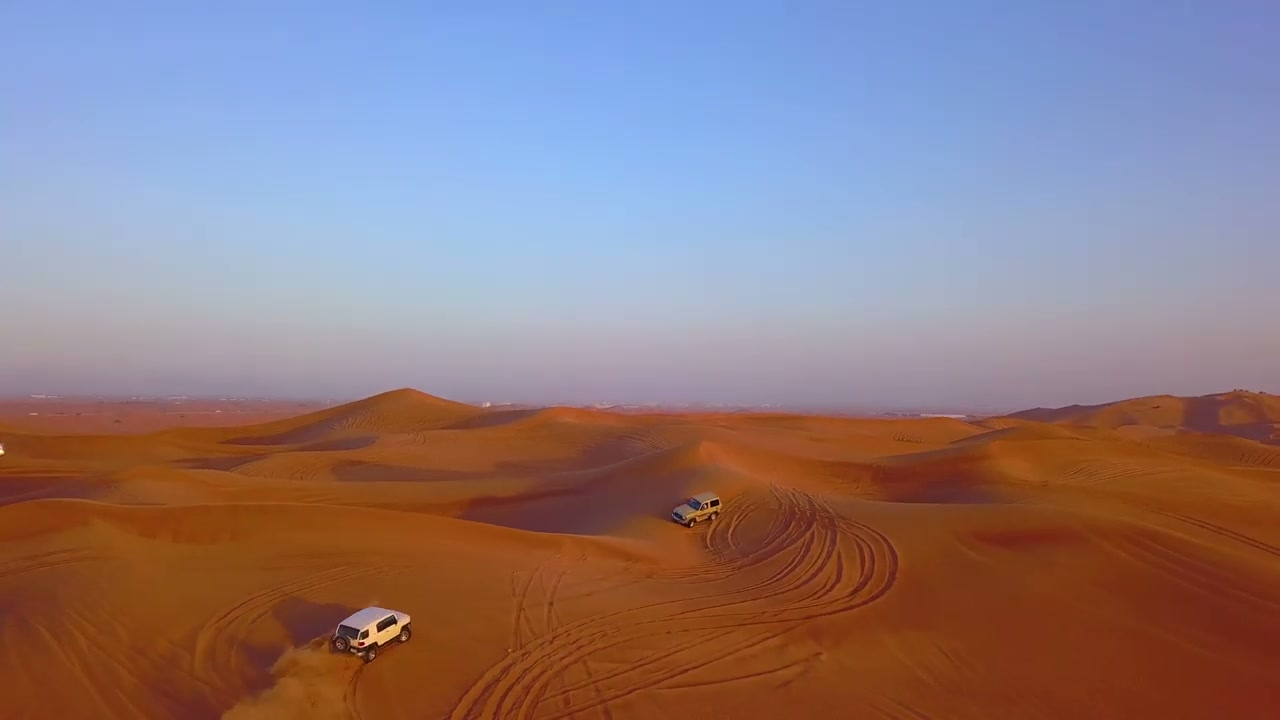vehicle_track: (450, 486, 897, 719), (192, 564, 395, 681), (1149, 510, 1279, 557), (0, 549, 102, 579)
